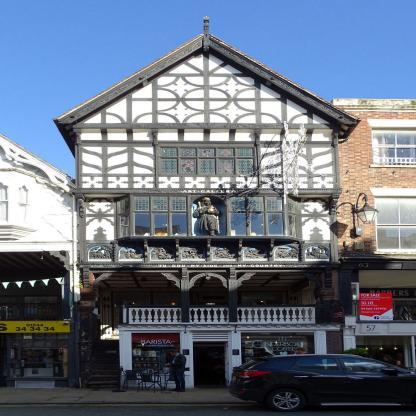Building Outline: (52, 16, 363, 387)
Deco: (87, 244, 331, 263), (192, 195, 226, 236)
Dont: (228, 347, 416, 412), (123, 349, 186, 392)
Door: (193, 342, 228, 388)
Door Hole: (87, 272, 322, 387)
Facade: (80, 120, 338, 387)
Floor: (80, 192, 336, 263), (80, 266, 336, 325)
Floor Slab: (80, 189, 340, 192), (80, 263, 340, 266), (118, 325, 341, 328)
Ground Floor: (120, 328, 341, 387)
Molding: (209, 39, 357, 123), (57, 39, 203, 124), (118, 325, 341, 328)
Pillar: (229, 273, 237, 322), (181, 273, 188, 322)
Roof: (56, 16, 359, 121)
Shop: (241, 333, 315, 374), (132, 333, 180, 374)
Top Floor: (80, 120, 339, 189)
Window: (117, 196, 187, 238), (230, 197, 297, 238), (160, 148, 254, 174), (243, 294, 283, 323), (114, 294, 149, 323), (154, 294, 189, 323)
